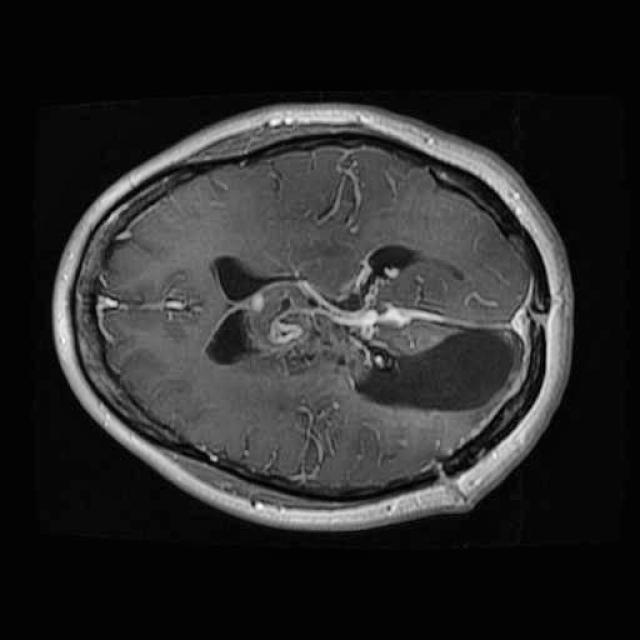Non-Tumor: (234, 243, 461, 388)
